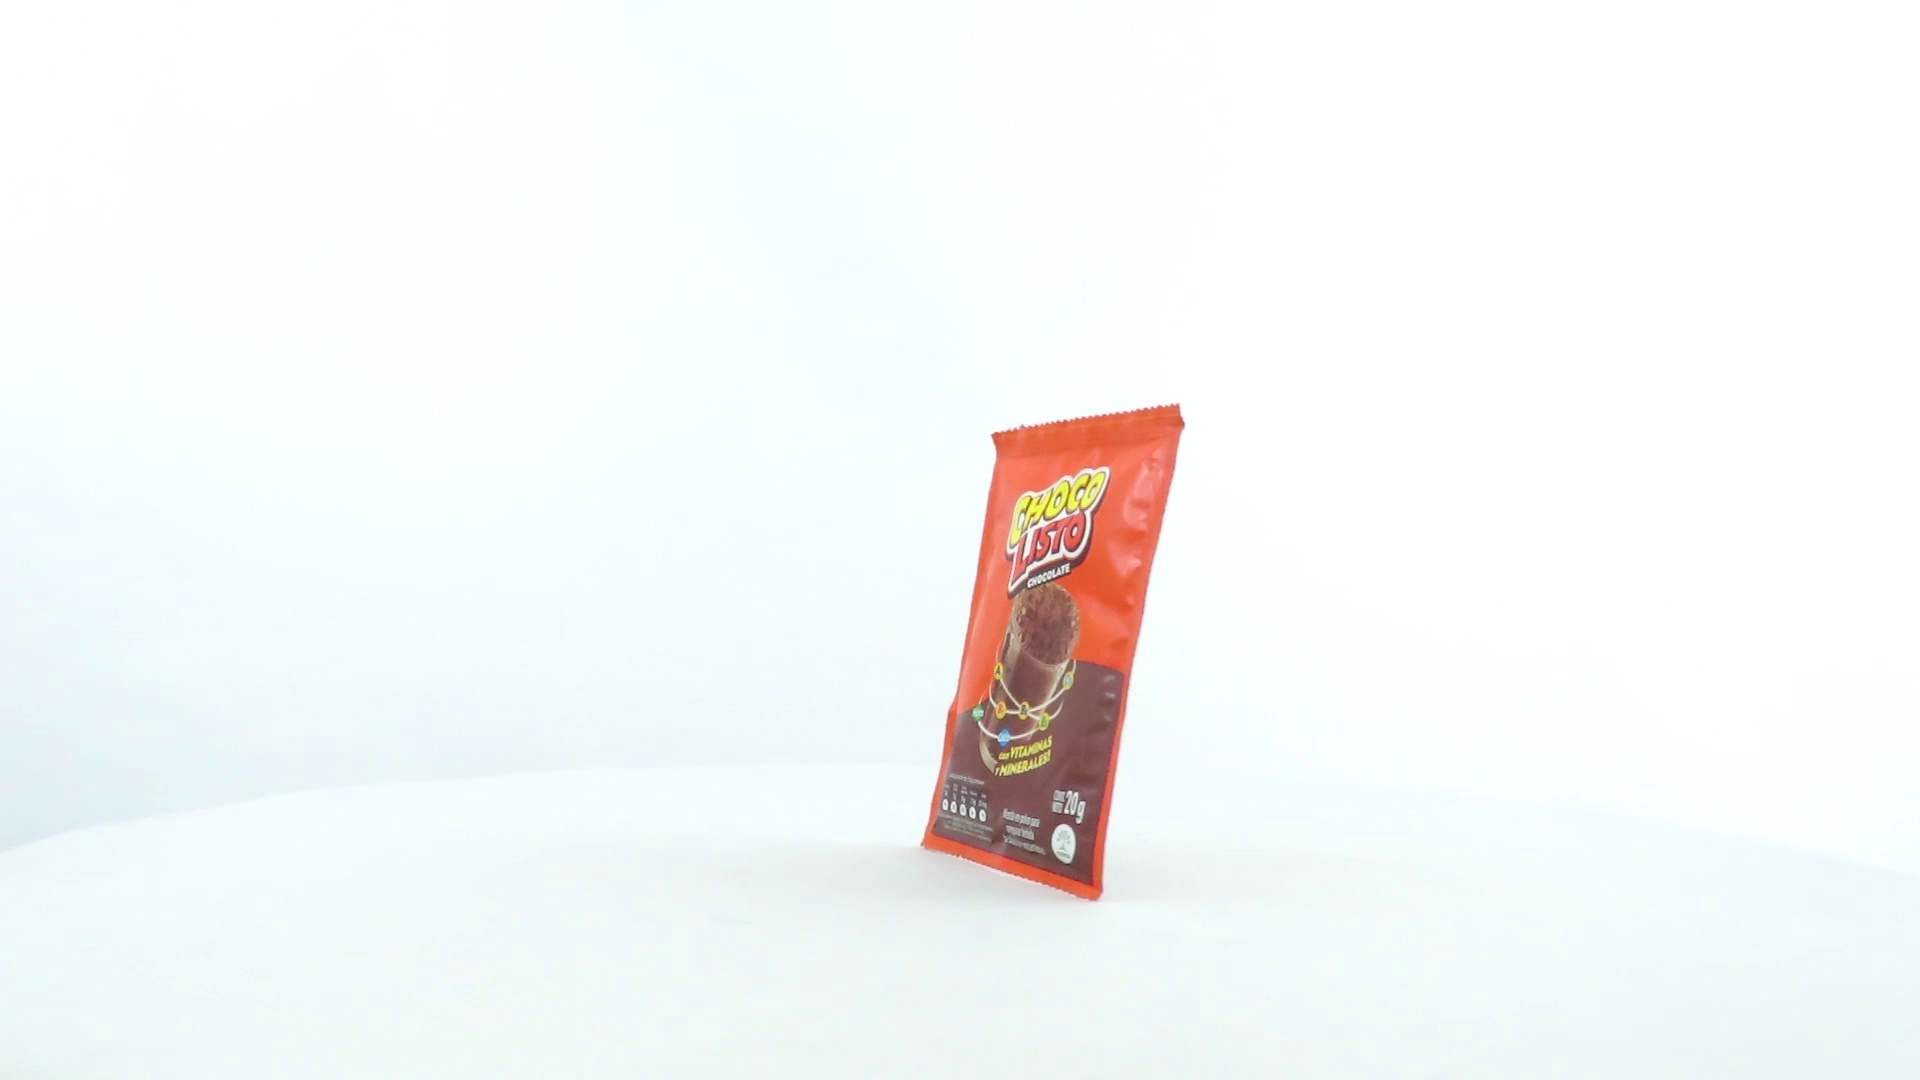COL0170103SOB02000: (915, 398, 1191, 907)
